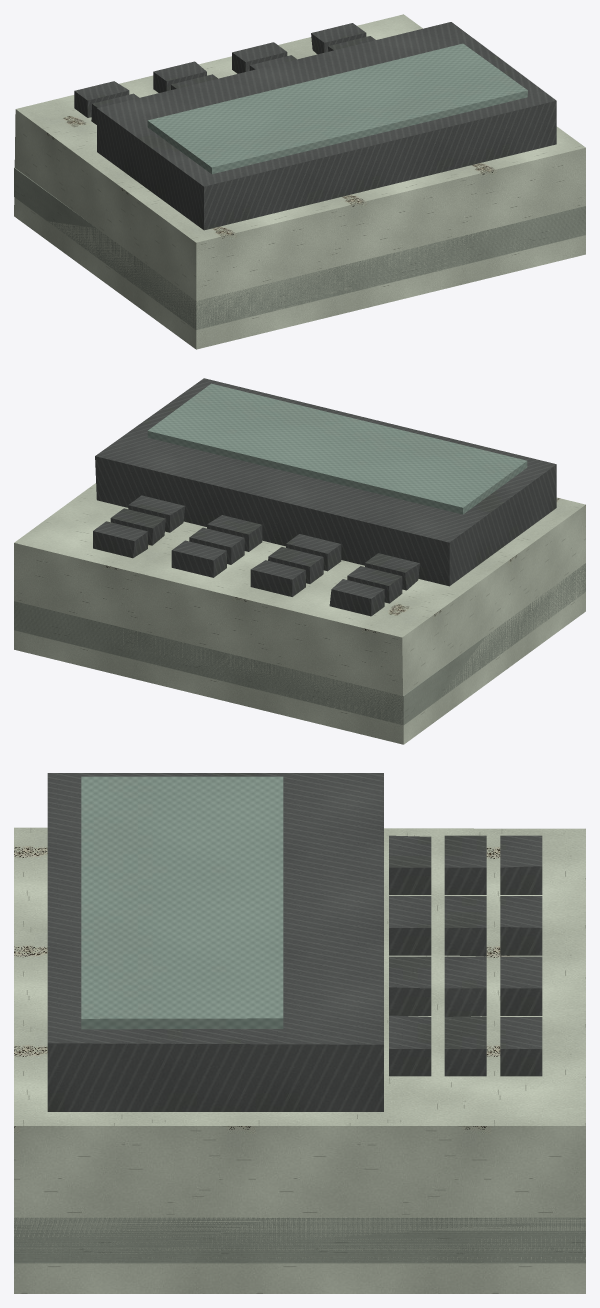
File: register_v1.glb
3 views of the same model, one above another, from view 1: azimuth 30°, elevation 25°; view 2: azimuth 150°, elevation 25°; view 3: azimuth 270°, elevation 25° (orthographic). The views are drawn at different scales.
Parts seen in each view (by area): view 1: Variant_register_1; view 2: Variant_register_1; view 3: Variant_register_1.
Part boxes in pixels (x1,y1,x2,y2): Variant_register_1: (14,14,585,349); Variant_register_1: (14,378,585,744); Variant_register_1: (14,773,585,1293).
Bounding box in the file's own units: 0.42 × 0.162 × 0.34.
4 materials, 4 textured.
